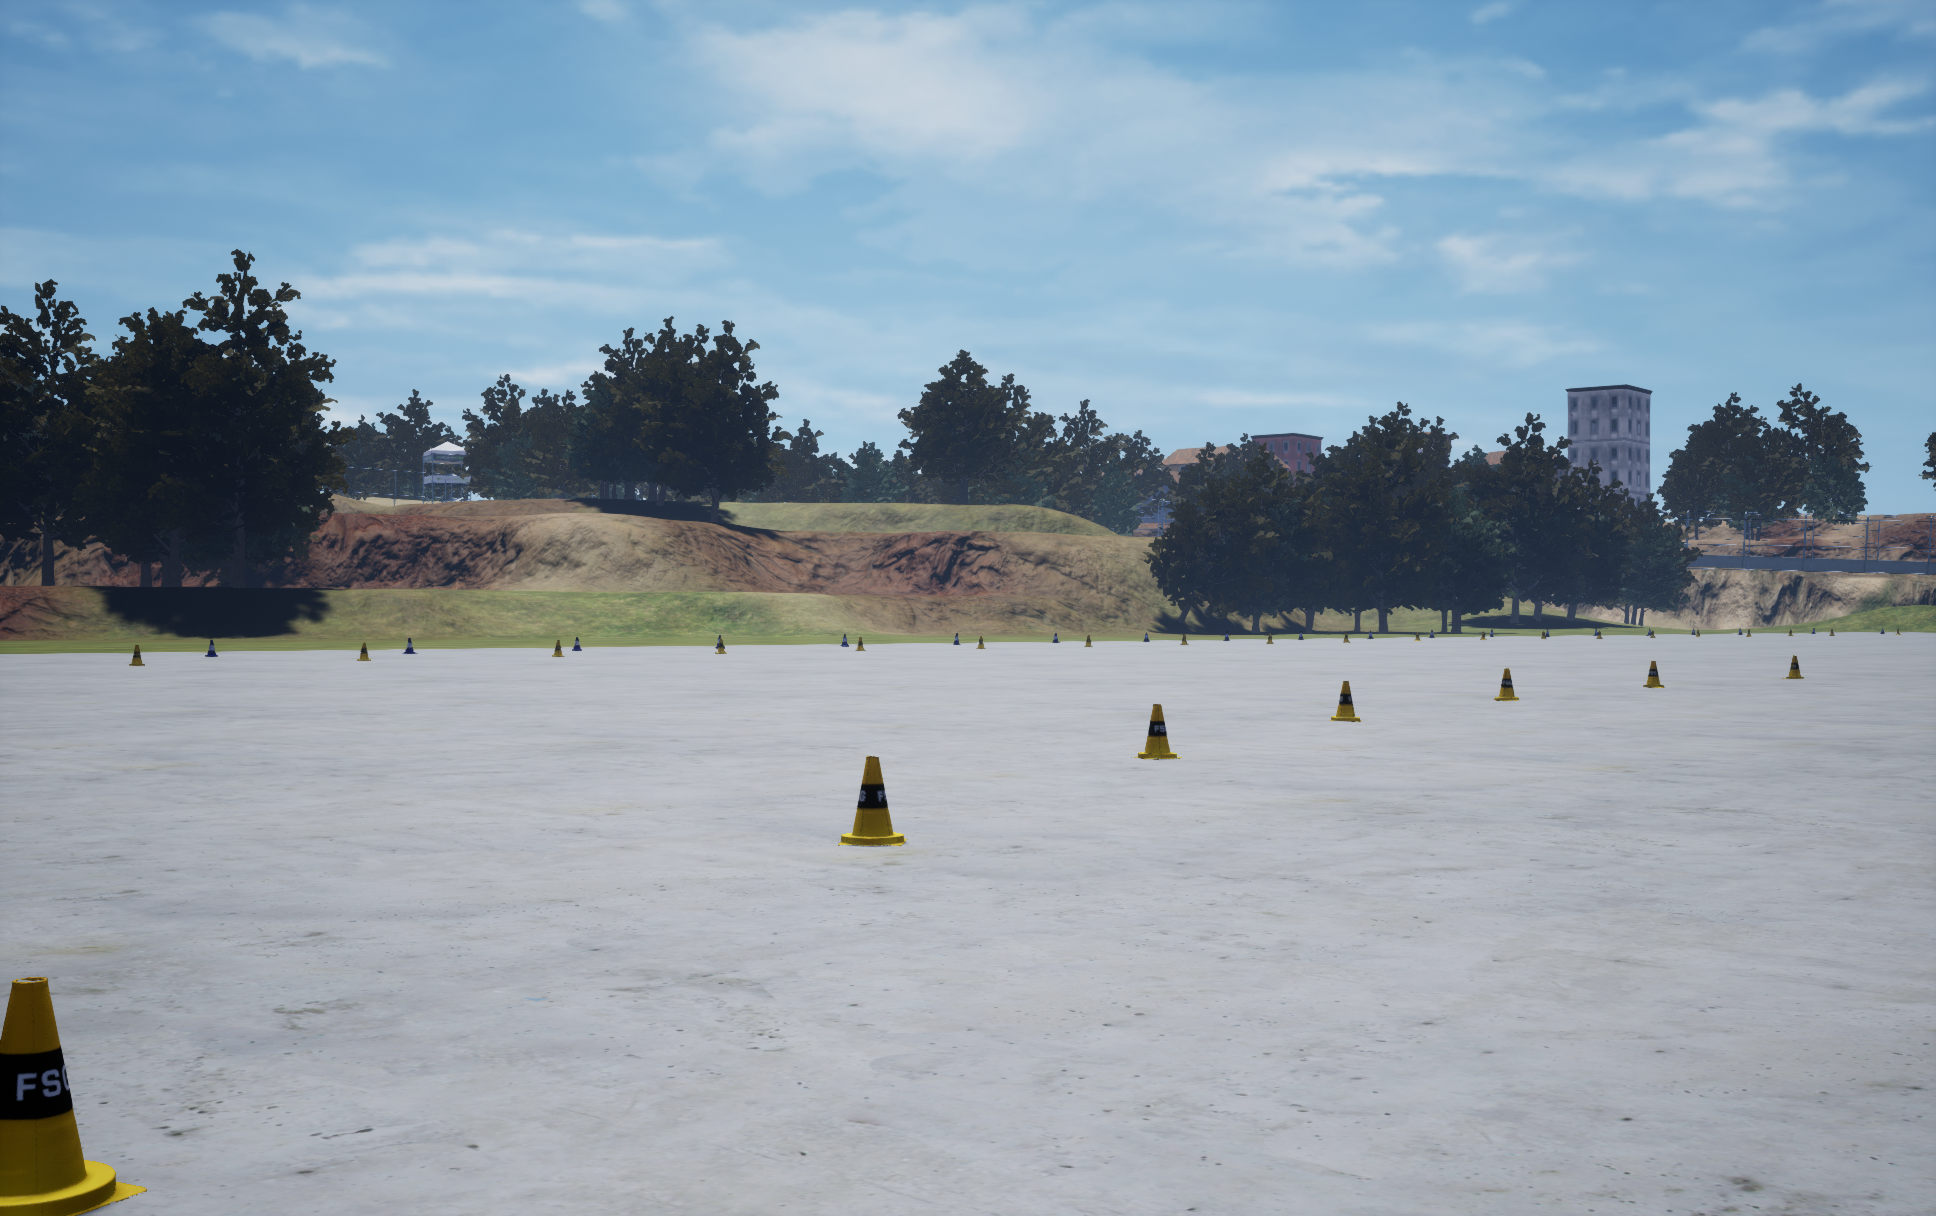blue: (0, 976, 146, 1215), (838, 756, 906, 845), (1131, 705, 1181, 759), (1329, 681, 1360, 721), (1493, 668, 1519, 700), (1643, 661, 1664, 686), (1782, 656, 1803, 678), (129, 644, 144, 665)
